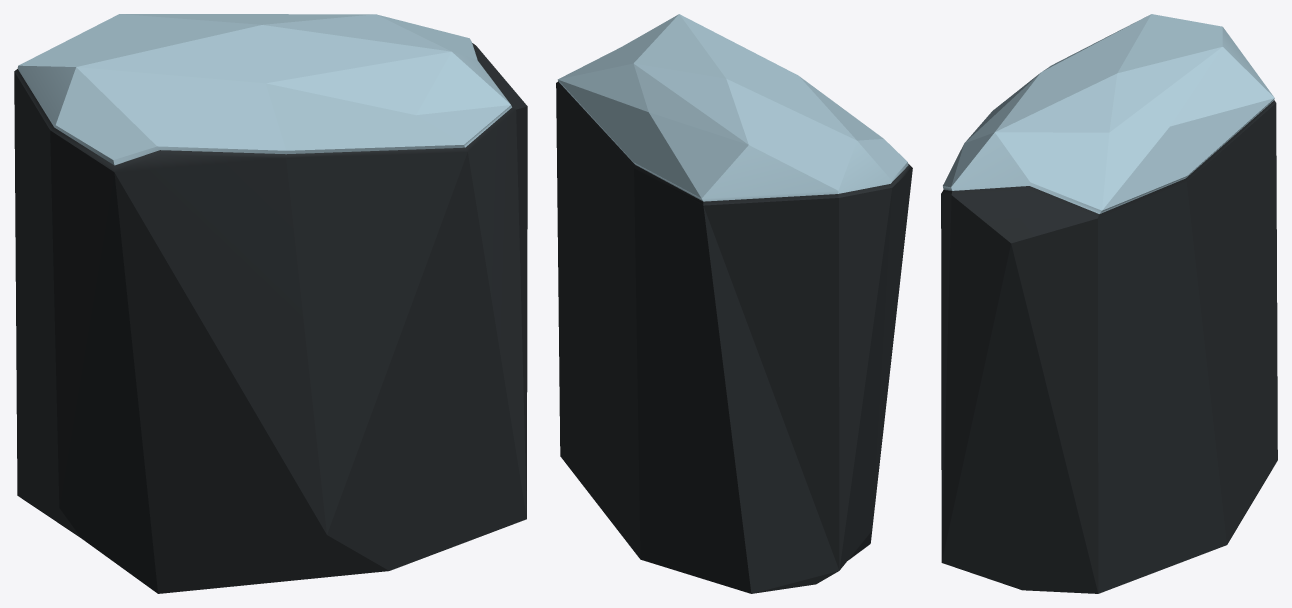
The model's file is Geo_Cliff04.fbx.
The picture shows the model from 3 angles, left to right: view 1: azimuth 30°, elevation 25°; view 2: azimuth 150°, elevation 25°; view 3: azimuth 270°, elevation 25°; orthographic projection. The views are drawn at different scales.
Parts seen in each view (by area): view 1: polySurface6; view 2: polySurface6; view 3: polySurface6.
Part boxes in pixels (<box>): polySurface6: <box>14,14,527,593</box>; polySurface6: <box>556,14,912,593</box>; polySurface6: <box>941,14,1277,593</box>.
Size of the model in its own units: 690 by 850 by 552.
